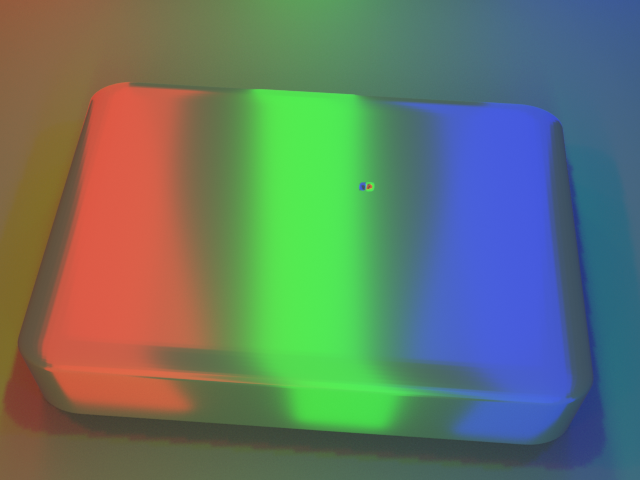dent: (351, 166, 388, 204)
